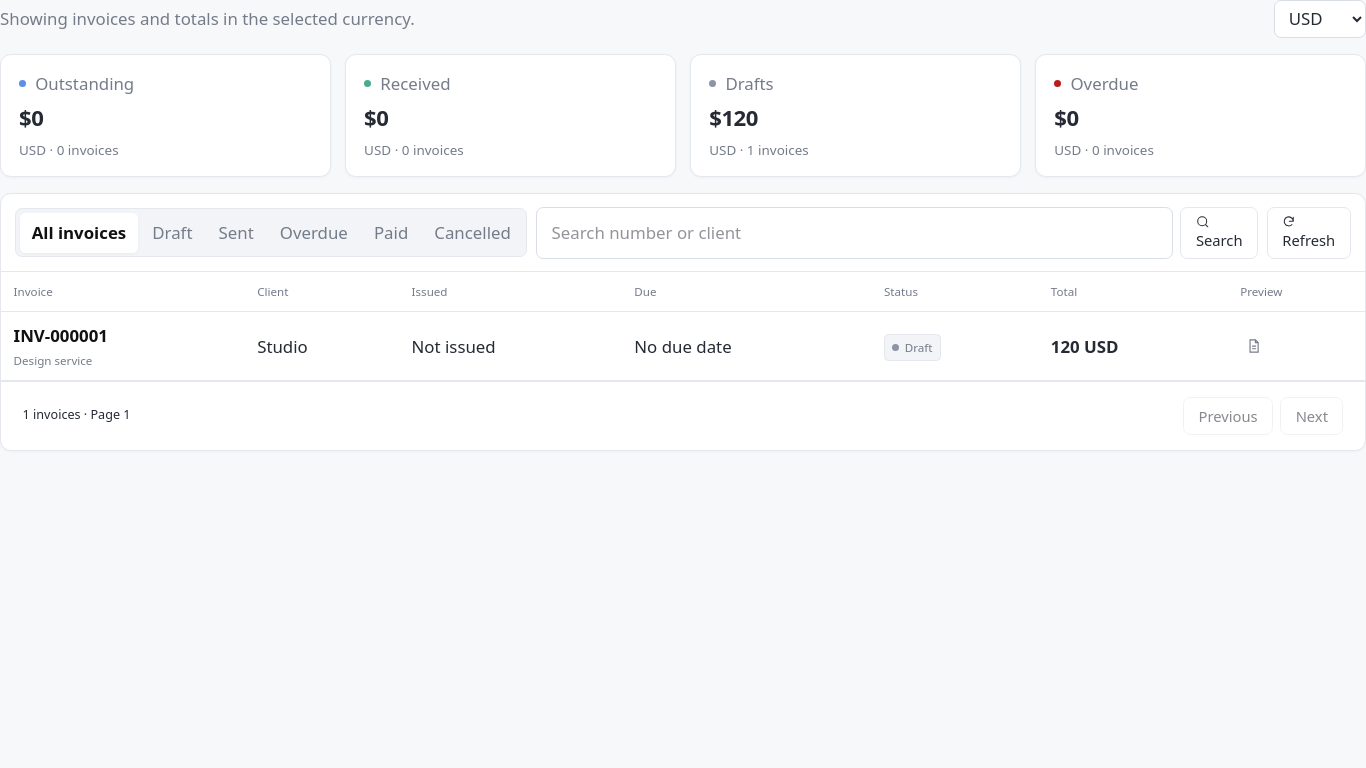
Test case: lists saved invoices and shows authoritative details
Click the button "INV-000001": (61, 336) [14,323,108,348]
(page scrolled)
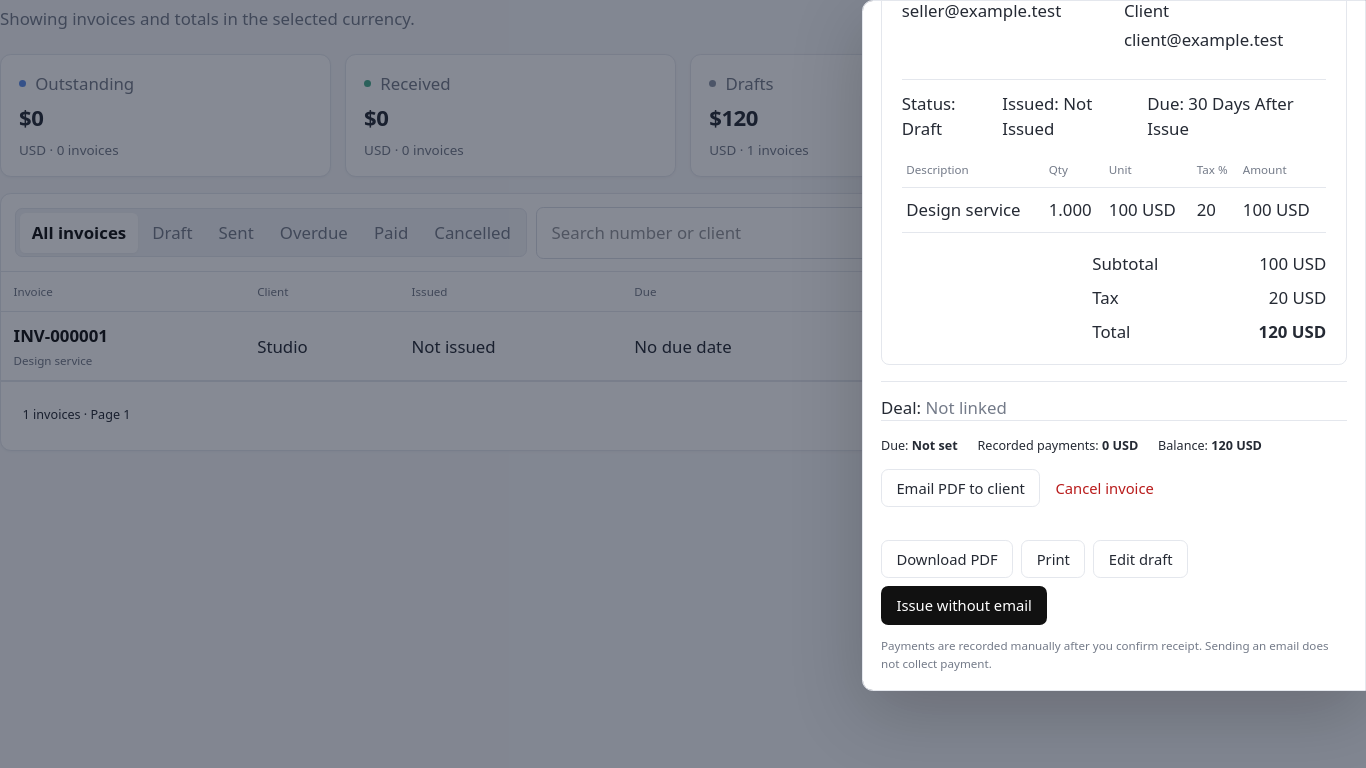
Expected: the text "Design service" is shown, [902,188,1044,232]
Expected: the text "120 USD" below "Subtotal" is shown, [1258,320,1326,343]
Expected: the button "Issue without email" is shown, [881,586,1047,625]
